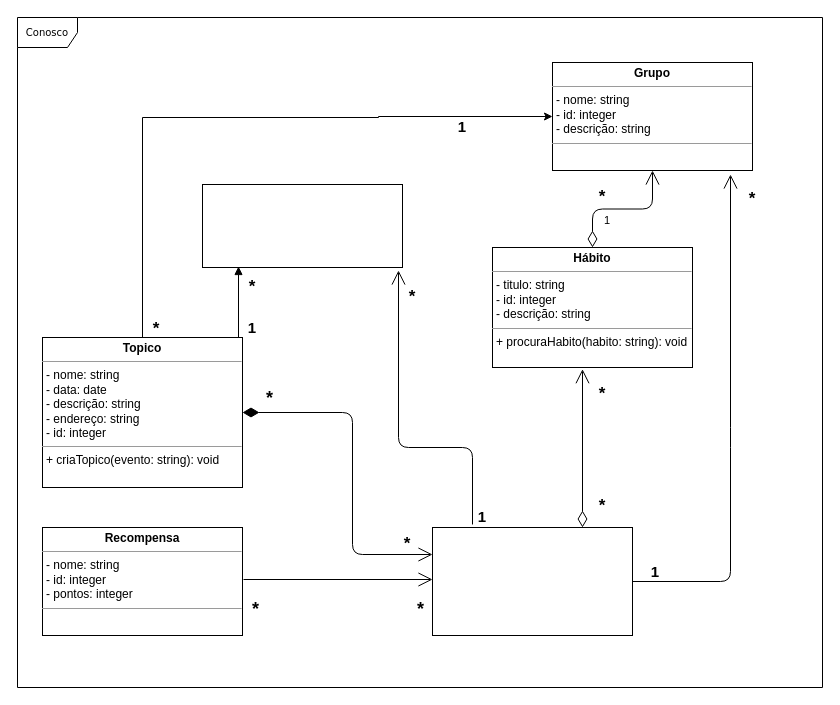
Some shapes in this 840 by 705 pixel diagram are drawn without their labels. The centre of each missing label's shape, as x and y in pixels:
Comentários - texto: string - id: integer: point 302,226
Pessoa - nome: string - email: string - pontos: integer: point 532,581
